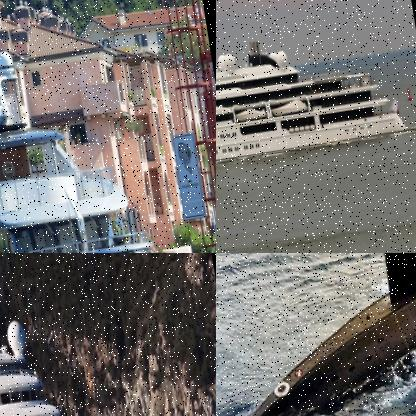Submarine: (216, 253, 415, 415)
Yacht: (0, 0, 180, 252), (216, 0, 415, 191), (0, 253, 101, 415)
